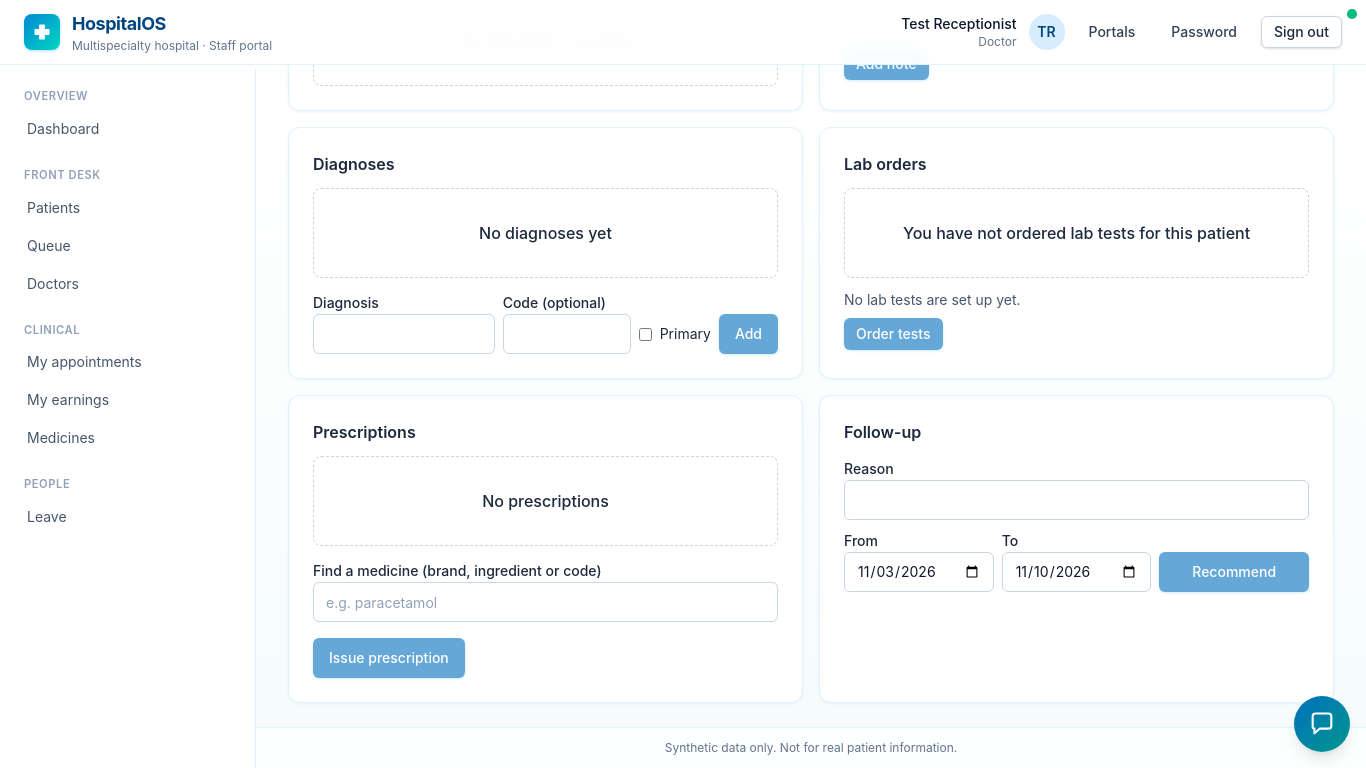
Test: prescribing › stops at an allergy warning until the doctor acknowledges it
(page scrolled)
In the search field labelled "Find a medicine (brand, ingredient or code)": coordinates (546, 602) x1=313 y1=582 x2=778 y2=622, type "zzcal"
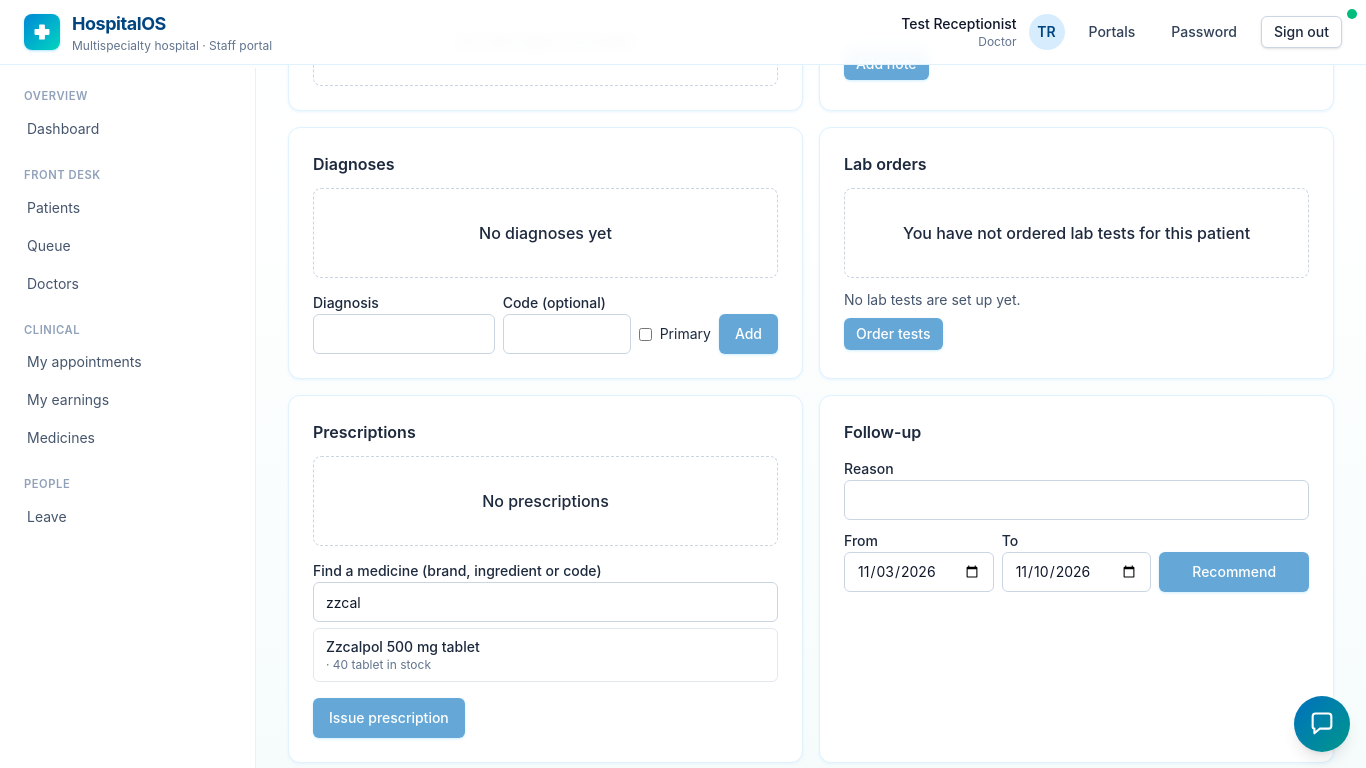
Click the button "Zzcalpol 500 mg tablet · 40 tablet in stock": coordinates (403, 646) x1=314 y1=629 x2=777 y2=681
(page scrolled)
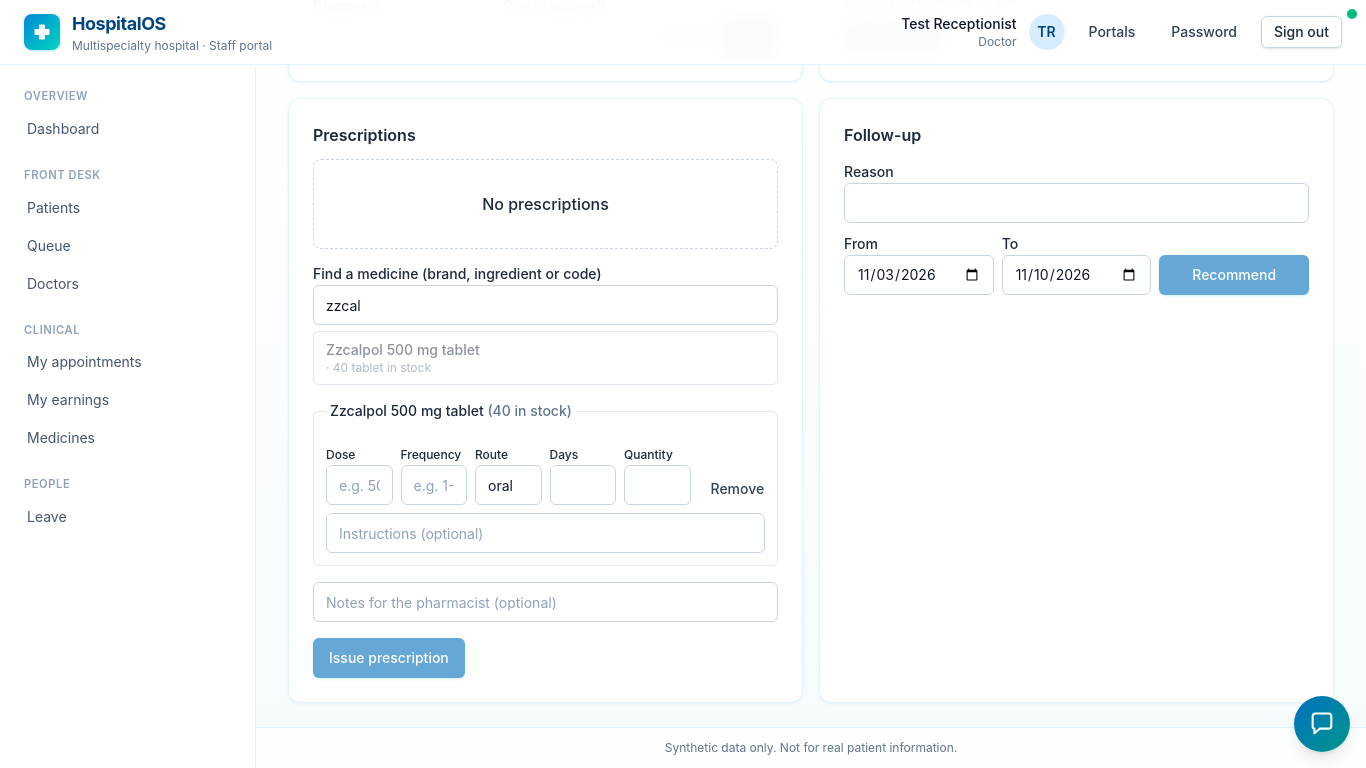
In the field labelled "Dose": coordinates (359, 485) x1=326 y1=465 x2=392 y2=505, type "500 mg"
In the field labelled "Frequency": coordinates (434, 485) x1=400 y1=465 x2=467 y2=505, type "TDS"
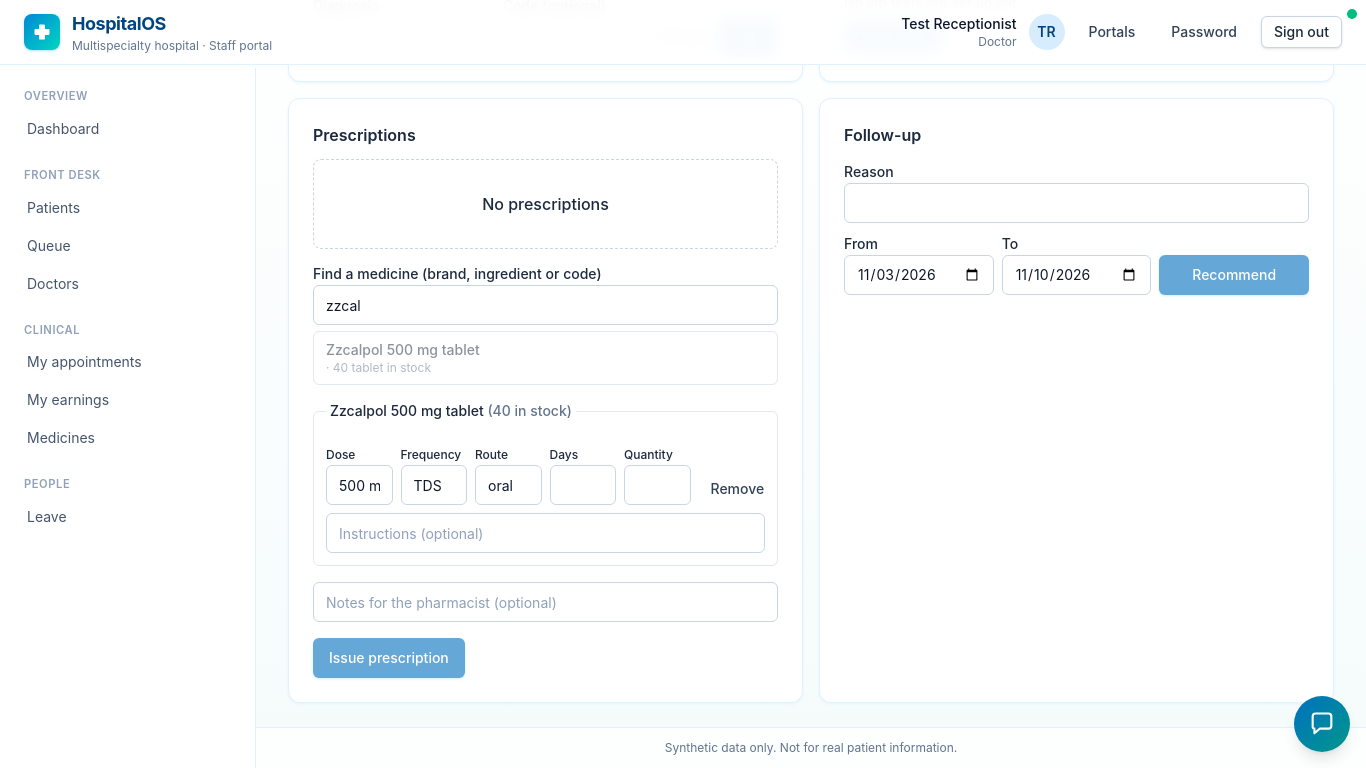
In the field labelled "Quantity": coordinates (657, 485) x1=624 y1=465 x2=690 y2=505, type "9"
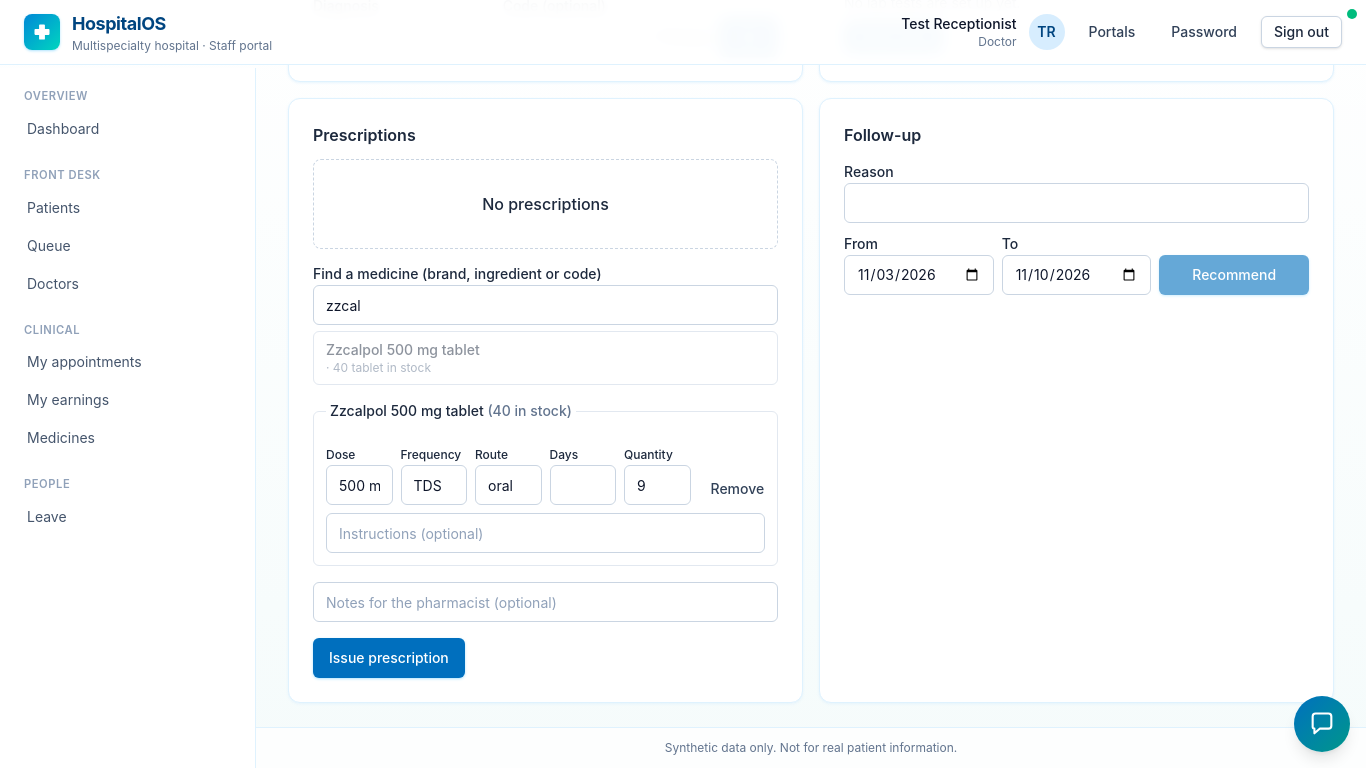
Click the button "Issue prescription": coordinates (389, 658) x1=313 y1=638 x2=465 y2=678
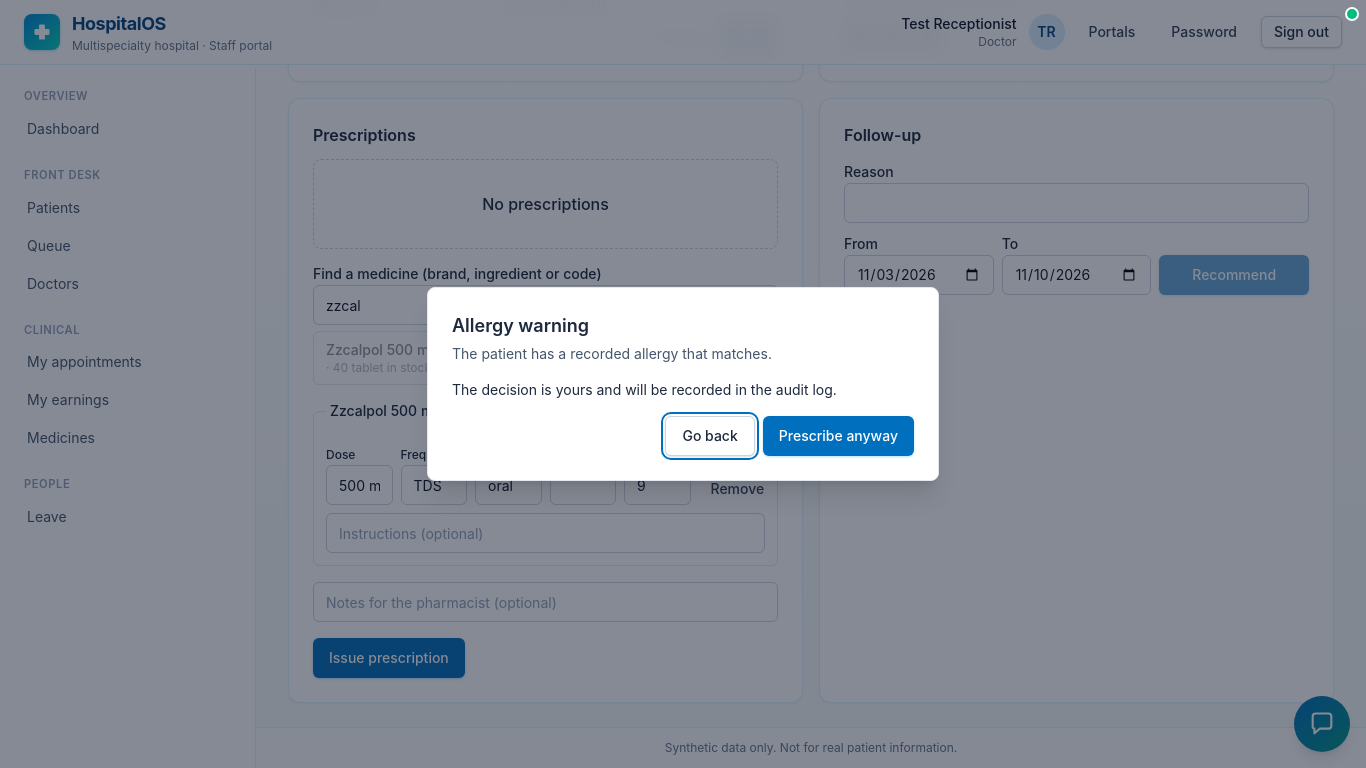
Click the button "Prescribe anyway": coordinates (838, 436) x1=763 y1=416 x2=914 y2=456
(page scrolled)
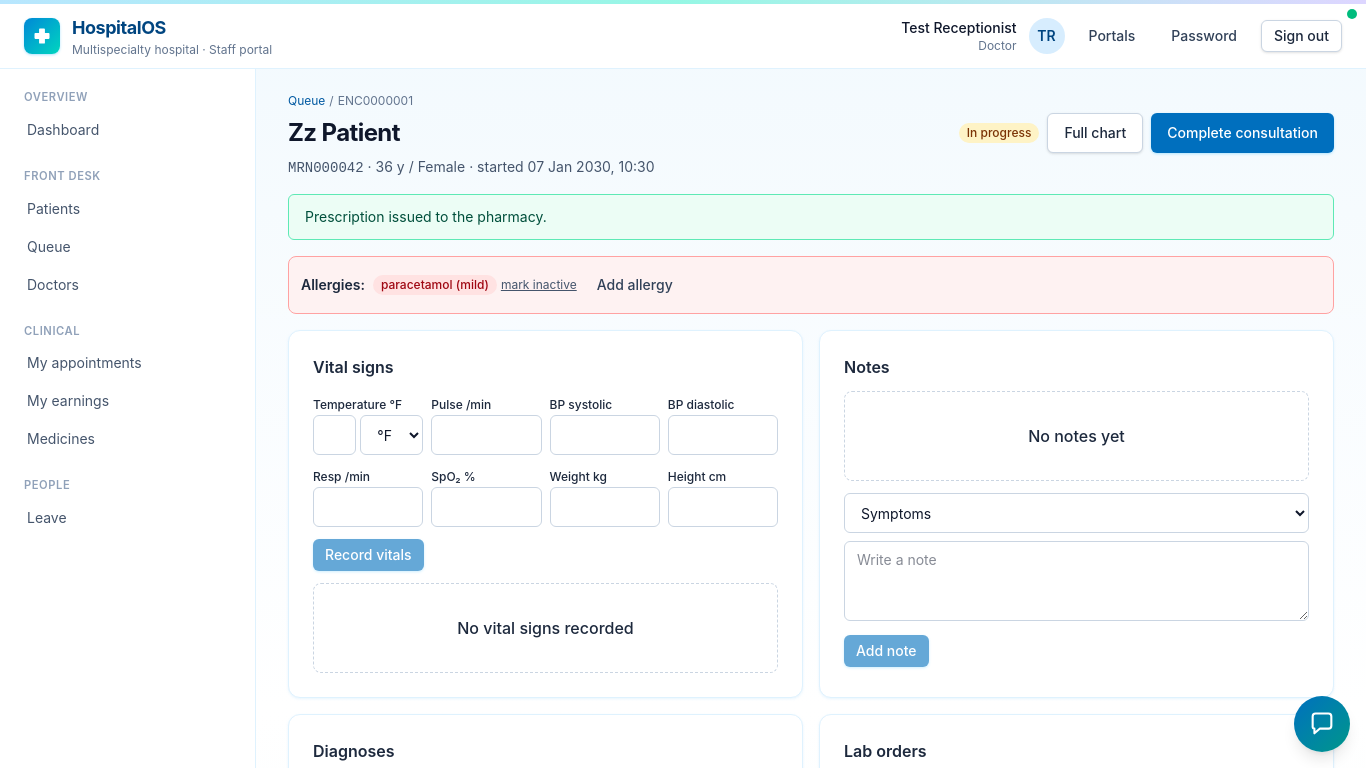
Expected: the text "Prescription issued to the pharmacy." is shown, x1=288 y1=194 x2=1334 y2=240
Expected: the dialog is gone
